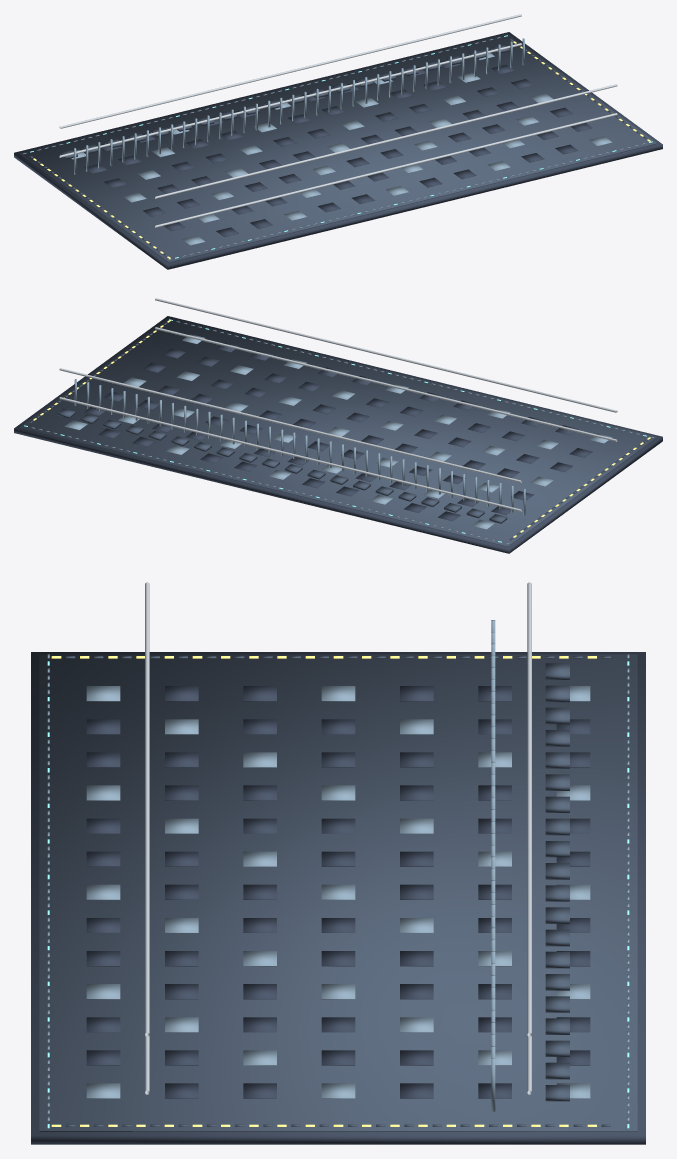
Rendered from L85_00_OrbitalDockingArenaBase_Fitted.fbx.
The picture shows the model from 3 angles, top to bottom: view 1: azimuth 30°, elevation 25°; view 2: azimuth 150°, elevation 25°; view 3: azimuth 270°, elevation 25°; orthographic projection. The views are drawn at different scales.
Parts seen in each view (by area): view 1: L85_OrbitalDockingArenaBase_Static__tint1A2434, L85_OrbitalDockingArenaBase_Static__tint111724, L85_OrbitalDockingArenaBase_Static__tint527391, L85_OrbitalDockingArenaBase_Static__tintA8B8C7; view 2: L85_OrbitalDockingArenaBase_Static__tint1A2434, L85_OrbitalDockingArenaBase_Static__tint111724, L85_OrbitalDockingArenaBase_Static__tint527391, L85_OrbitalDockingArenaBase_Static__tintA8B8C7; view 3: L85_OrbitalDockingArenaBase_Static__tint1A2434, L85_OrbitalDockingArenaBase_Static__tint111724, L85_OrbitalDockingArenaBase_Static__tint527391, L85_OrbitalDockingArenaBase_Static__tintA8B8C7, L85_OrbitalDockingArenaBase_Static__tintFFA12B.
Boxes of the visible parts, x1,y1,x2,y2 form: L85_OrbitalDockingArenaBase_Static__tint1A2434: [19, 33, 657, 262]; L85_OrbitalDockingArenaBase_Static__tint111724: [14, 32, 662, 269]; L85_OrbitalDockingArenaBase_Static__tint527391: [23, 37, 645, 260]; L85_OrbitalDockingArenaBase_Static__tintA8B8C7: [59, 14, 617, 227]; L85_OrbitalDockingArenaBase_Static__tint1A2434: [19, 317, 657, 546]; L85_OrbitalDockingArenaBase_Static__tint111724: [14, 316, 662, 553]; L85_OrbitalDockingArenaBase_Static__tint527391: [31, 321, 653, 544]; L85_OrbitalDockingArenaBase_Static__tintA8B8C7: [59, 298, 617, 511]; L85_OrbitalDockingArenaBase_Static__tint1A2434: [39, 654, 637, 1131]; L85_OrbitalDockingArenaBase_Static__tint111724: [31, 652, 645, 1144]; L85_OrbitalDockingArenaBase_Static__tint527391: [47, 620, 629, 1121]; L85_OrbitalDockingArenaBase_Static__tintA8B8C7: [145, 582, 531, 1094]; L85_OrbitalDockingArenaBase_Static__tintFFA12B: [51, 656, 596, 1126].
Size of the model in its own units: 280 by 25.81 by 151.
